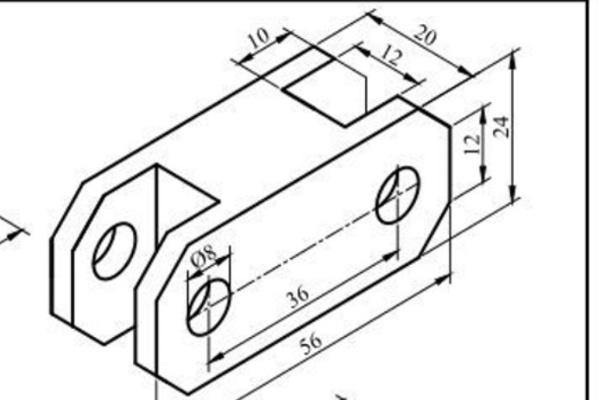dimensions: (404, 19, 443, 50), (243, 21, 278, 55), (294, 326, 326, 360), (188, 238, 222, 270), (282, 280, 314, 310), (378, 40, 410, 69), (487, 110, 514, 141), (460, 128, 484, 158)
